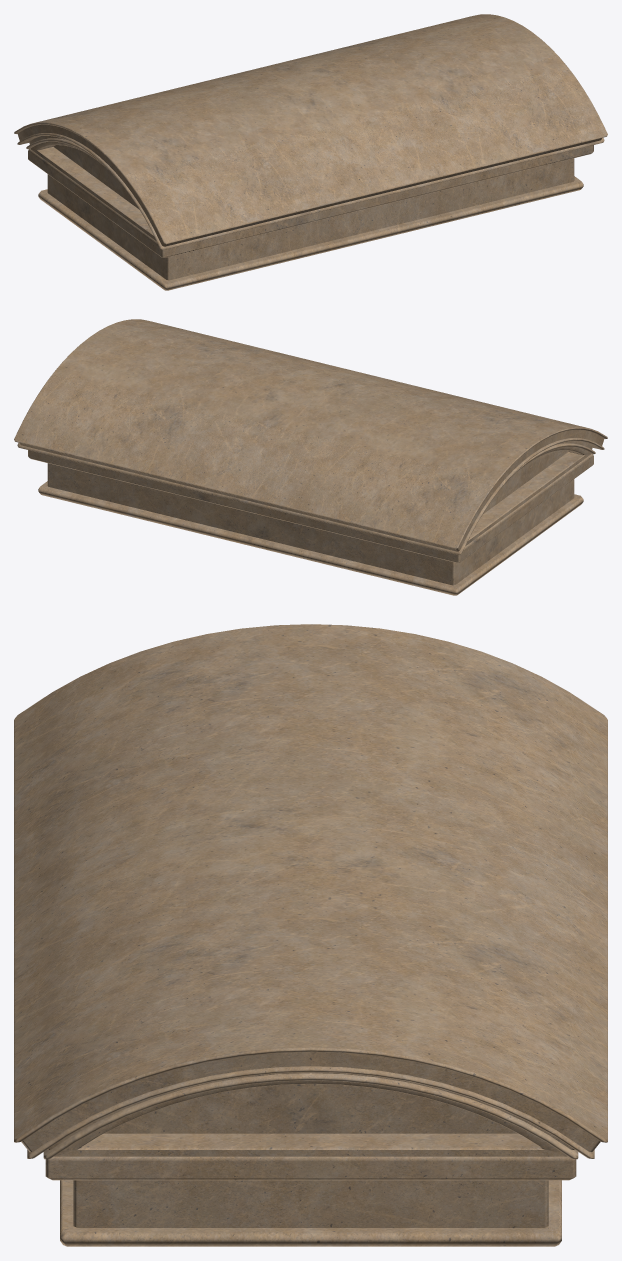
Rendered from SM_MausoleumRoofC.fbx.
3 renders of one model, top to bottom at view 1: azimuth 30°, elevation 25°; view 2: azimuth 150°, elevation 25°; view 3: azimuth 270°, elevation 25°, orthographic. The views are drawn at different scales.
Visible parts, largest first — view 1: SM_MausoleumRoofC_LOD0; view 2: SM_MausoleumRoofC_LOD0; view 3: SM_MausoleumRoofC_LOD0.
Part boxes in pixels (x1,y1,x2,y2): SM_MausoleumRoofC_LOD0: (14,14,607,290); SM_MausoleumRoofC_LOD0: (14,319,607,595); SM_MausoleumRoofC_LOD0: (14,624,607,1246).
Bounding box in the file's own units: 311 × 184 × 72.31.
1 material, 1 textured.
